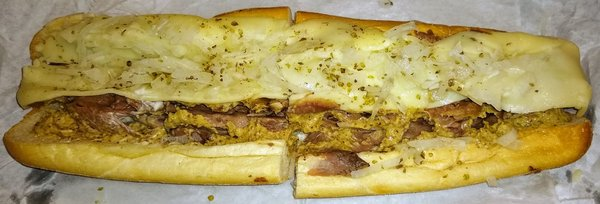sandwich: (4, 9, 598, 196)
